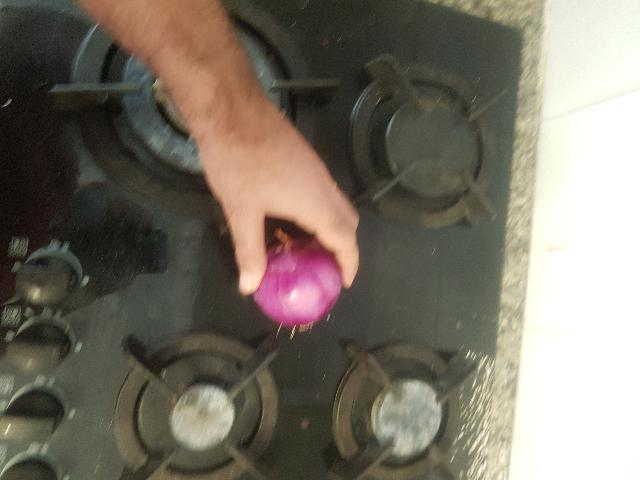onion: (410, 302, 476, 386)
